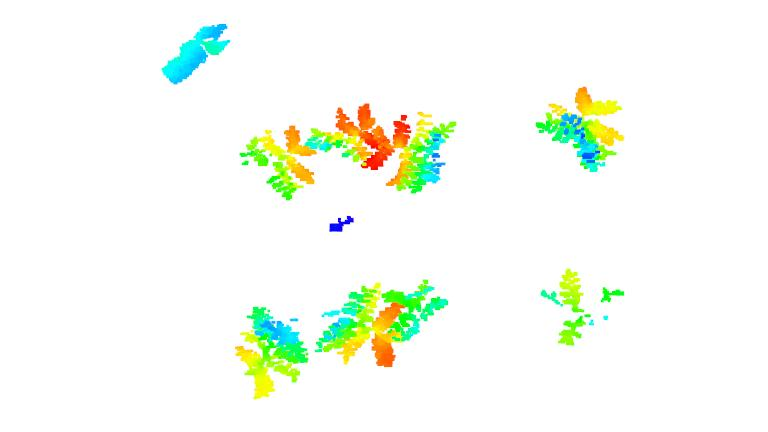chickpea: (326, 104, 452, 195), (533, 84, 627, 172), (316, 279, 399, 370), (232, 304, 308, 399), (240, 121, 317, 203), (553, 268, 623, 347), (380, 279, 450, 342)
